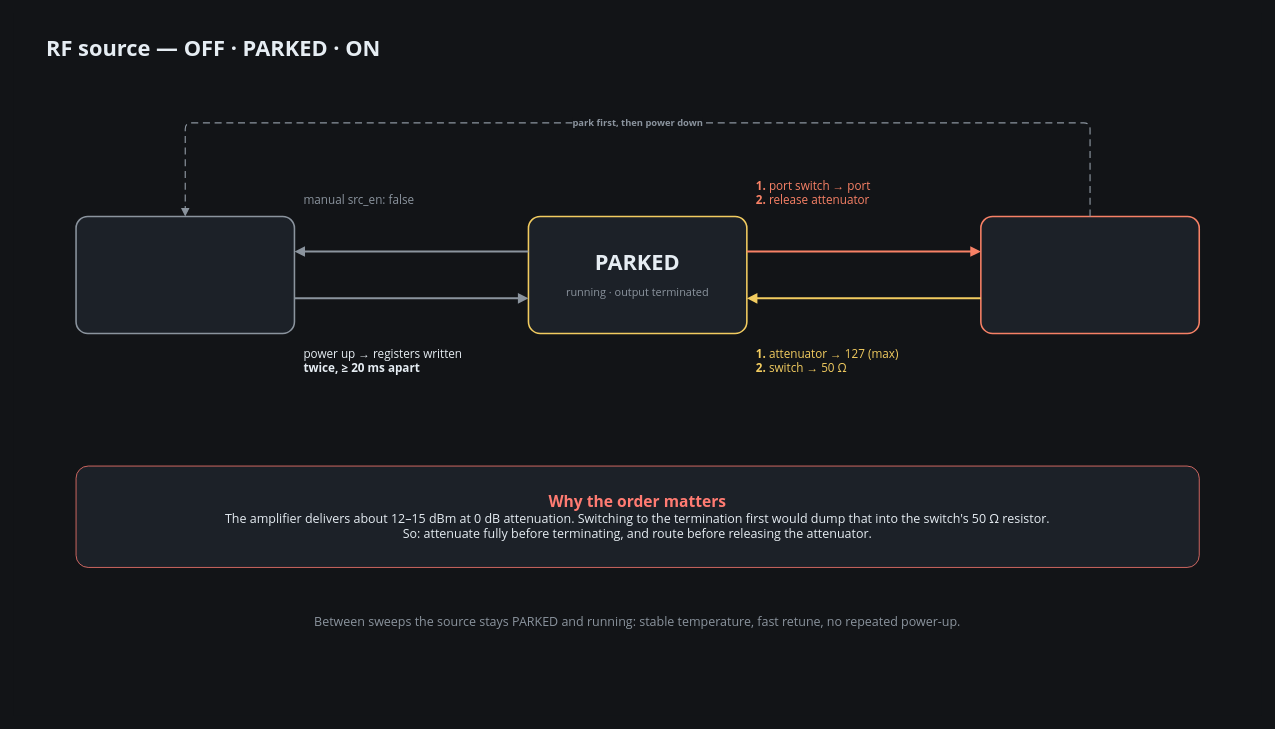
The diagram is 1275 pixels wide and 729 high, and some of its shapes have lost their labels. Here are the shapes that lost their labels. From the top down, the centre of each, then its label:
[185,274]: OFF synth + amp powered down
[1090,274]: ON routed to port 1 or 2
